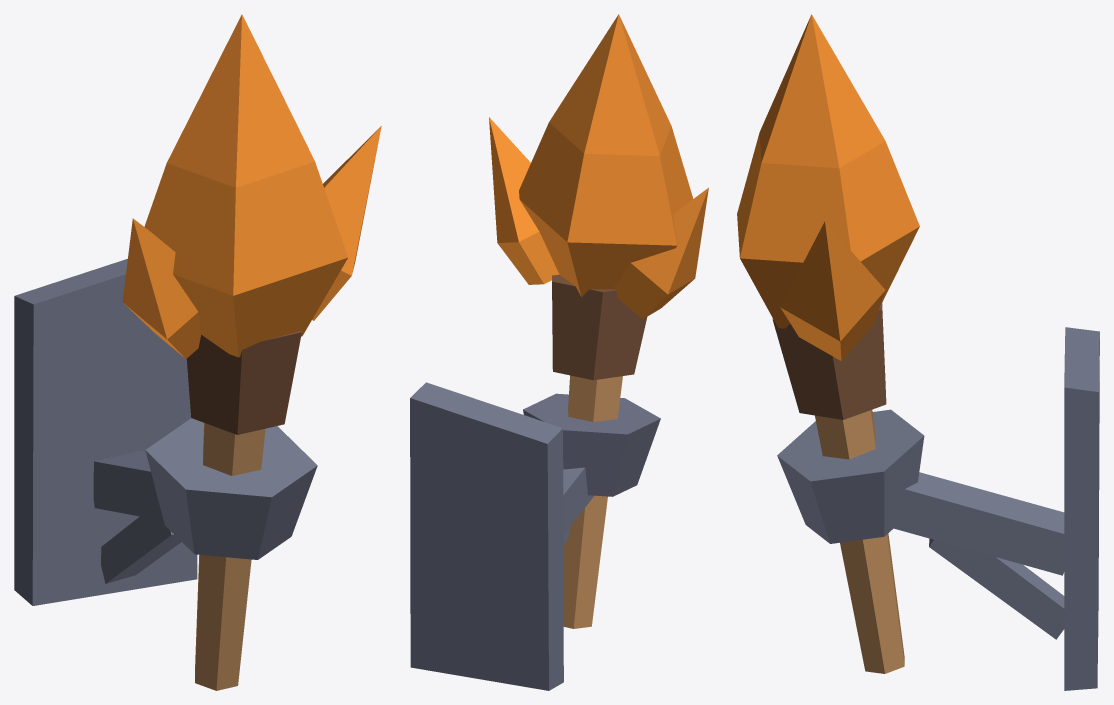
The model's file is torch.fbx.
3 renders of one model, left to right at view 1: azimuth 30°, elevation 25°; view 2: azimuth 150°, elevation 25°; view 3: azimuth 270°, elevation 25°, orthographic. The views are drawn at different scales.
Visible parts, largest first — view 1: torch; view 2: torch; view 3: torch.
Boxes of the visible parts, left/top/right/bottom form: torch: left=14, top=14, right=381, bottom=690; torch: left=410, top=14, right=708, bottom=690; torch: left=737, top=14, right=1099, bottom=690.
Size of the model in its own units: 0.2392 by 0.6269 by 0.3191.
